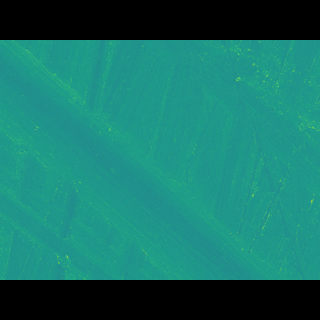Loch: (3, 68, 275, 250), (133, 69, 320, 183), (194, 71, 303, 124)
